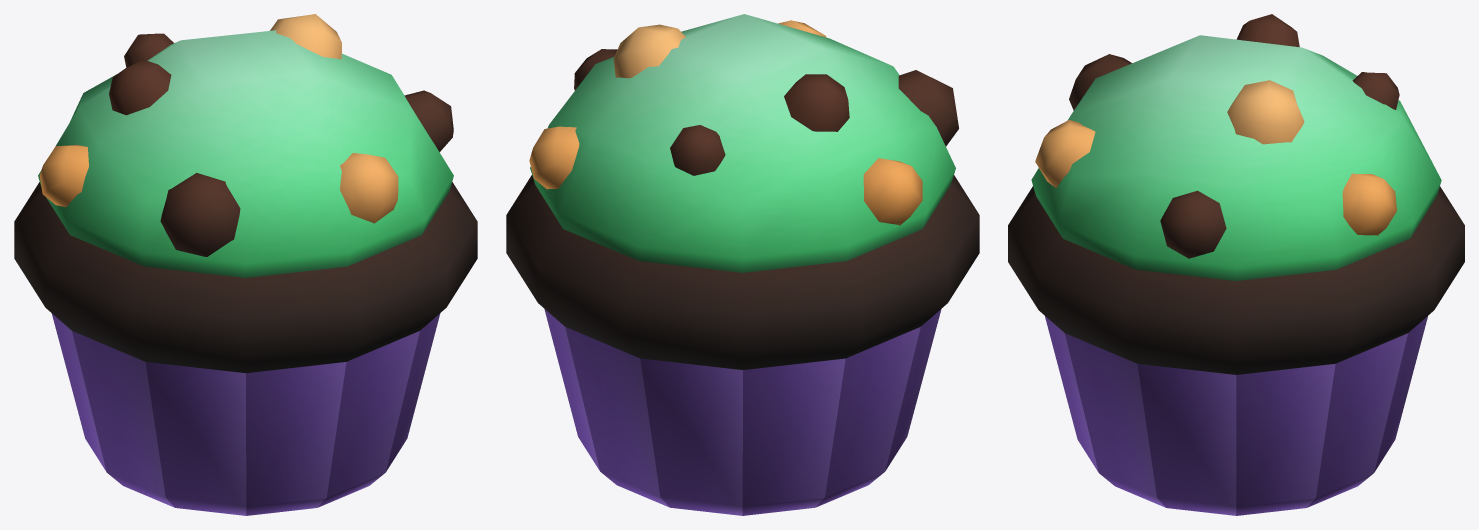
The model's file is m_Cupcake08.fbx.
The picture shows the model from 3 angles, left to right: view 1: azimuth 30°, elevation 25°; view 2: azimuth 150°, elevation 25°; view 3: azimuth 270°, elevation 25°; orthographic projection. The views are drawn at different scales.
Visible parts, largest first — view 1: m_Cupcake08; view 2: m_Cupcake08; view 3: m_Cupcake08.
Boxes of the visible parts, left/top/right/bottom form: m_Cupcake08: left=14, top=14, right=477, bottom=515; m_Cupcake08: left=506, top=14, right=979, bottom=515; m_Cupcake08: left=1008, top=14, right=1464, bottom=515.
Bounding box in the file's own units: 11.39 × 11.11 × 11.39.
